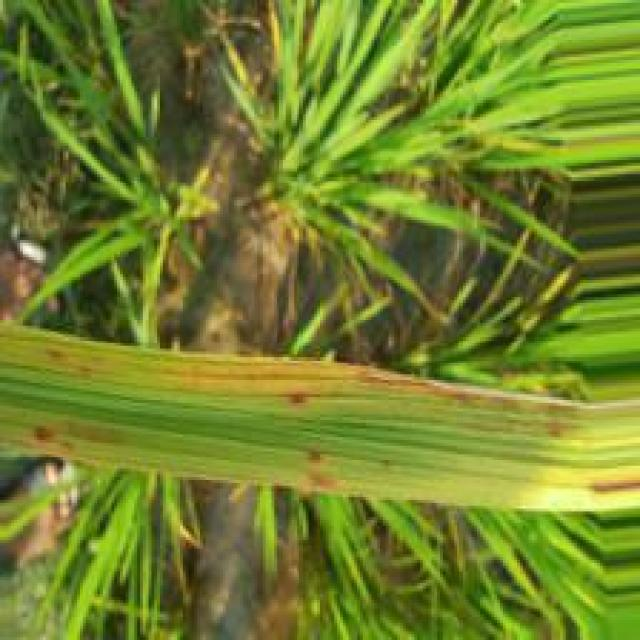Brown_Spot: (342, 365, 481, 407), (583, 475, 639, 496), (295, 469, 342, 493), (25, 419, 63, 446), (280, 386, 310, 411), (300, 444, 339, 461)
